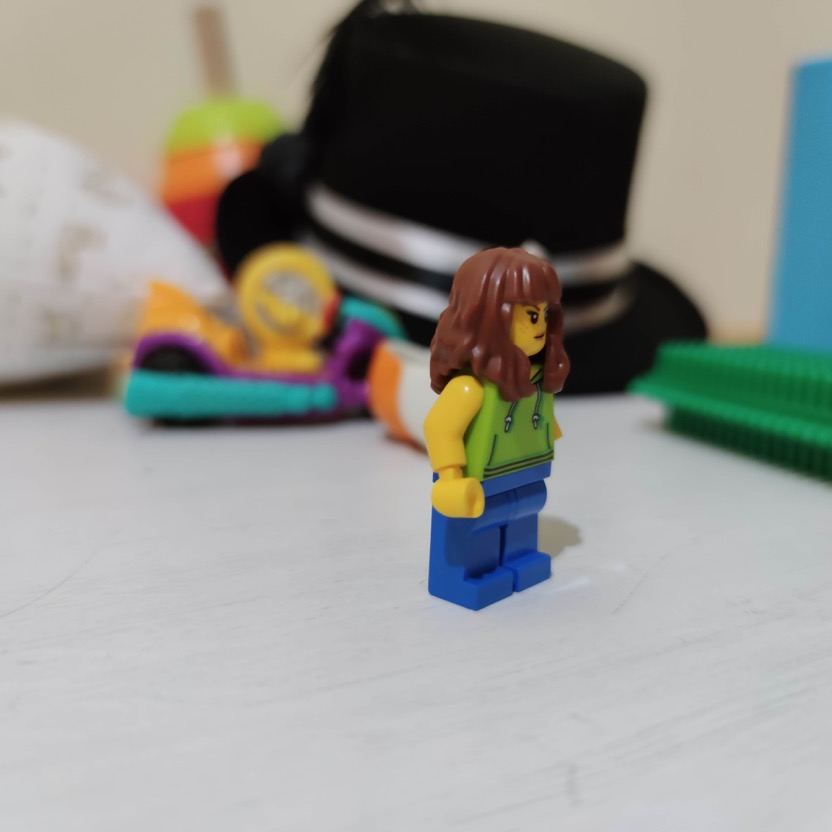lego: (422, 248, 571, 613)
